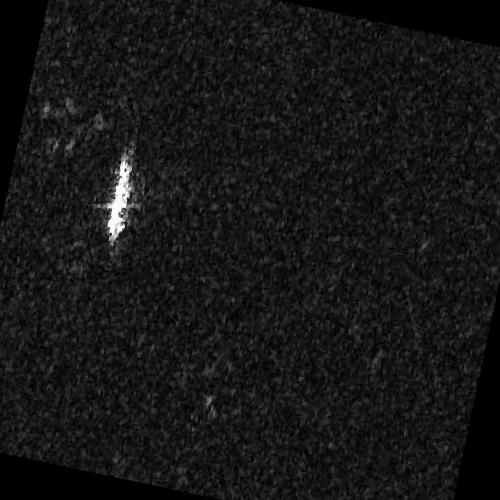ship: (106, 152, 133, 246)
